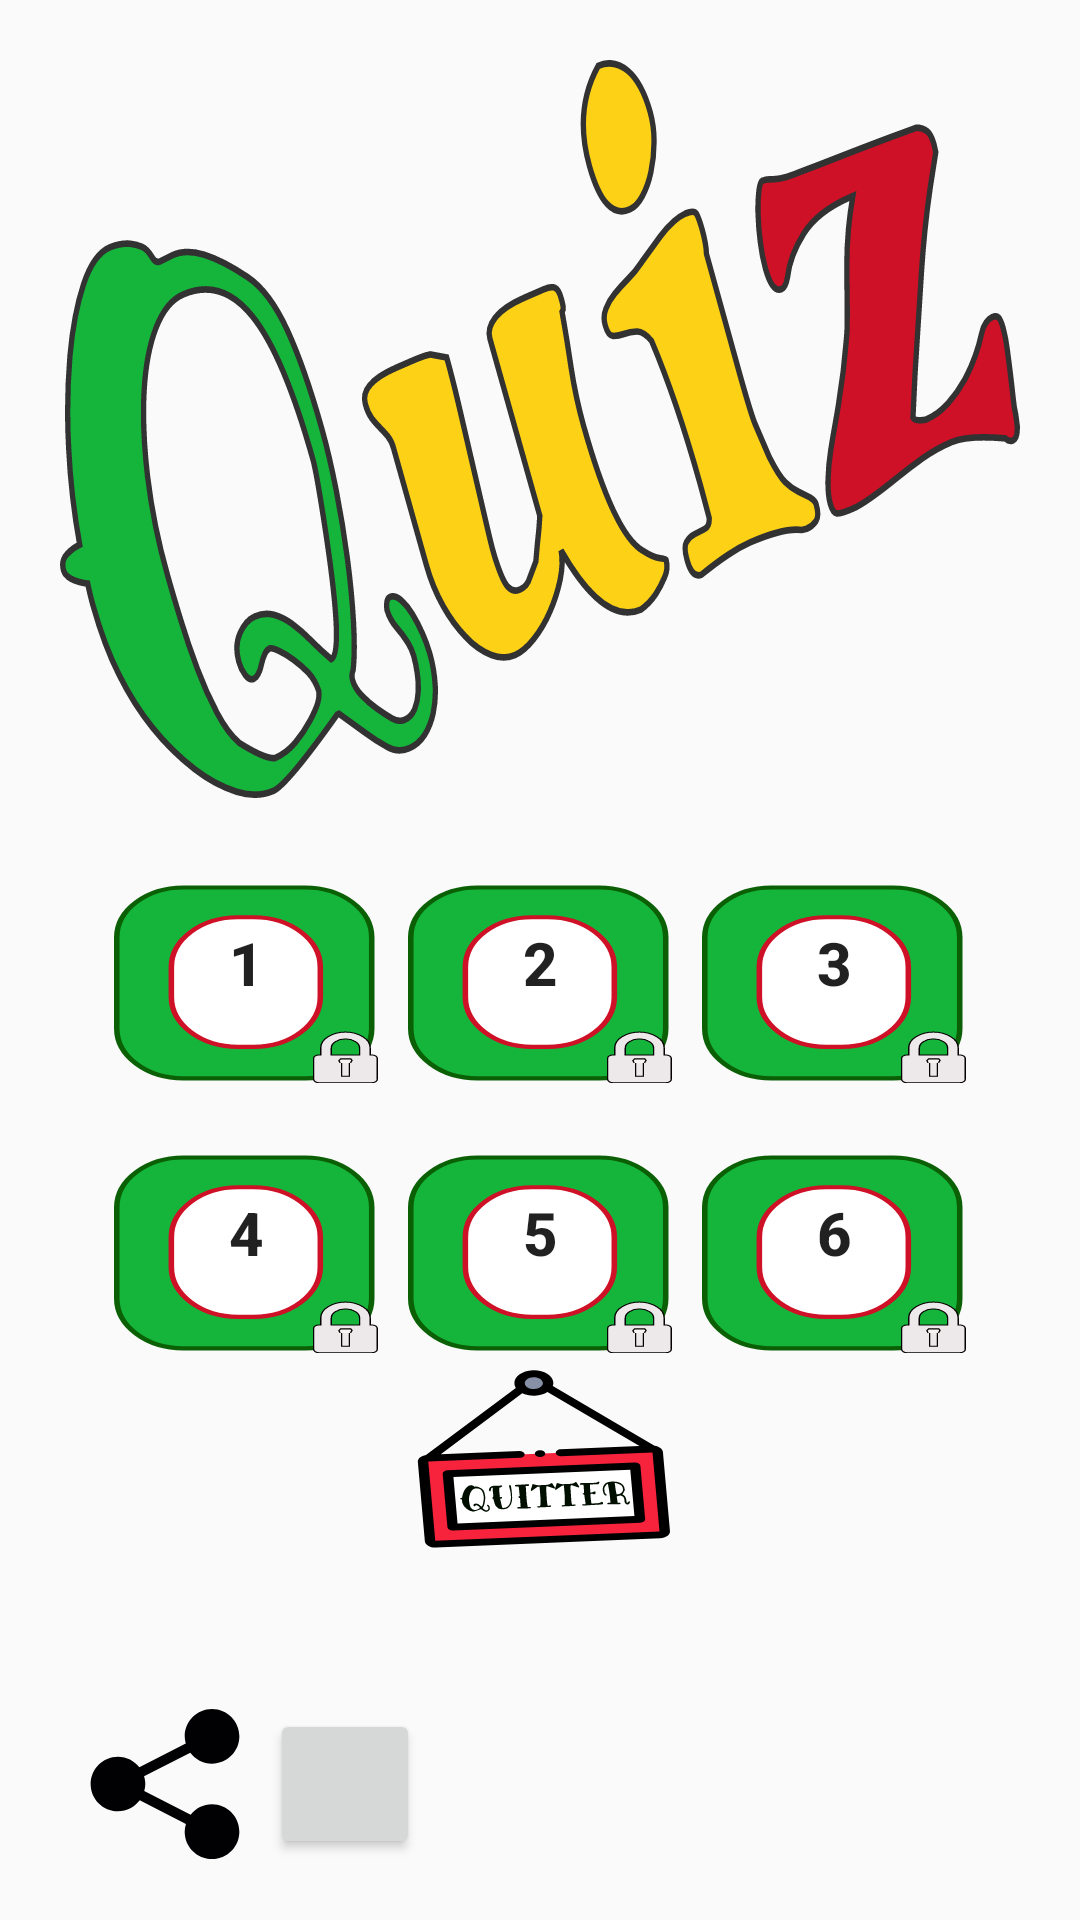

Where icons sit on this 1080px×1920px app screen, as detection(x1, y1, x2, y2):
share: detection(90, 1709, 240, 1859)
